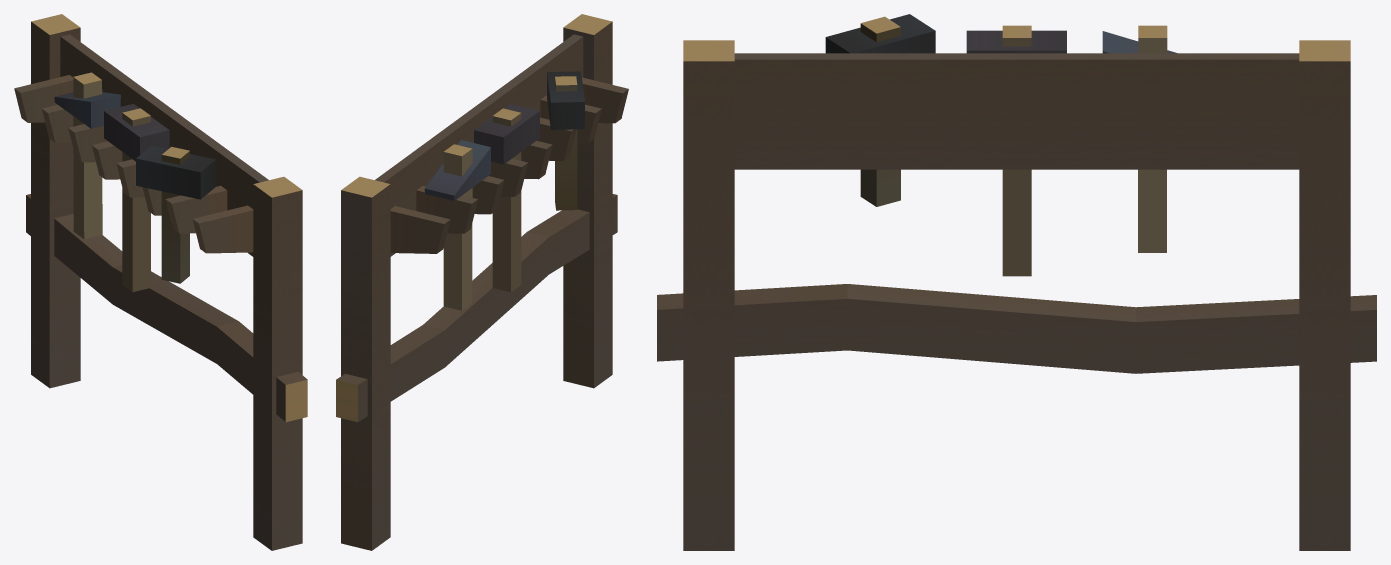
File: Forge_2_LOD1.fbx
The picture shows the model from 3 angles, left to right: view 1: azimuth 30°, elevation 25°; view 2: azimuth 150°, elevation 25°; view 3: azimuth 270°, elevation 25°; orthographic projection. The views are drawn at different scales.
Visible parts, largest first — view 1: polySurface9722; view 2: polySurface9722; view 3: polySurface9722.
Boxes of the visible parts, left/top/right/bottom form: polySurface9722: left=14, top=14, right=307, bottom=550; polySurface9722: left=336, top=14, right=628, bottom=550; polySurface9722: left=657, top=14, right=1376, bottom=550.
Bounding box in the file's own units: 43.42 × 173 × 230.
